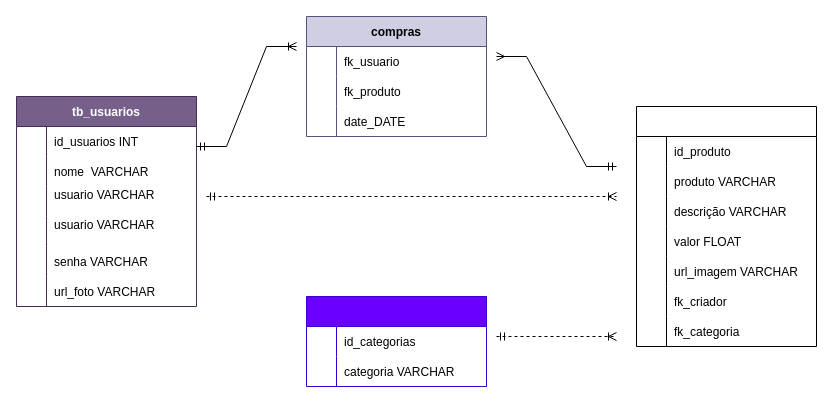
The diagram is 833 pixels wide and 403 high, and some of its shapes have lost their labels. The box of each missing label's shape, as (x1, y1, x2, y2) in pixels:
tb_categorias: (306, 296, 486, 386)
tb_produtos: (636, 106, 816, 346)
